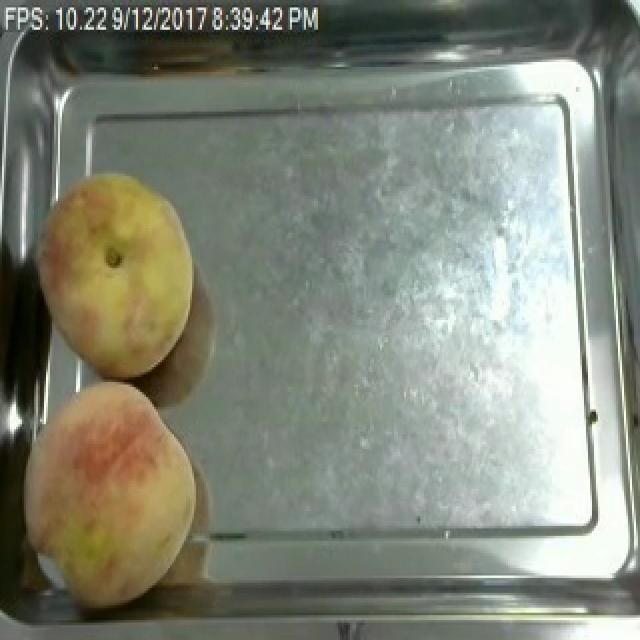Fruit: (8, 370, 208, 618), (24, 163, 204, 384)
